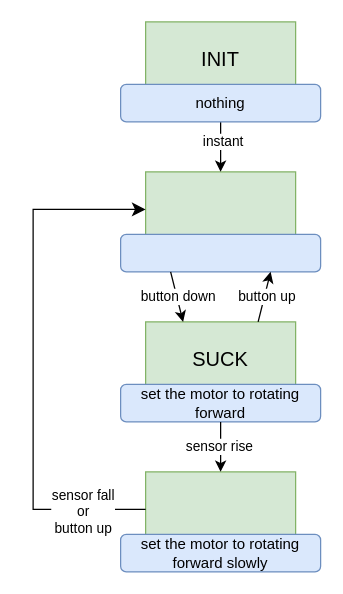
Image size: 343x594. Some labels were removed from this diagram. The centre of each missing label's shape, as x and y in pixels:
"IDLE" goes at point (220, 209).
"SLOWSUCK" goes at point (220, 509).
"stop the motor" goes at point (220, 252).
